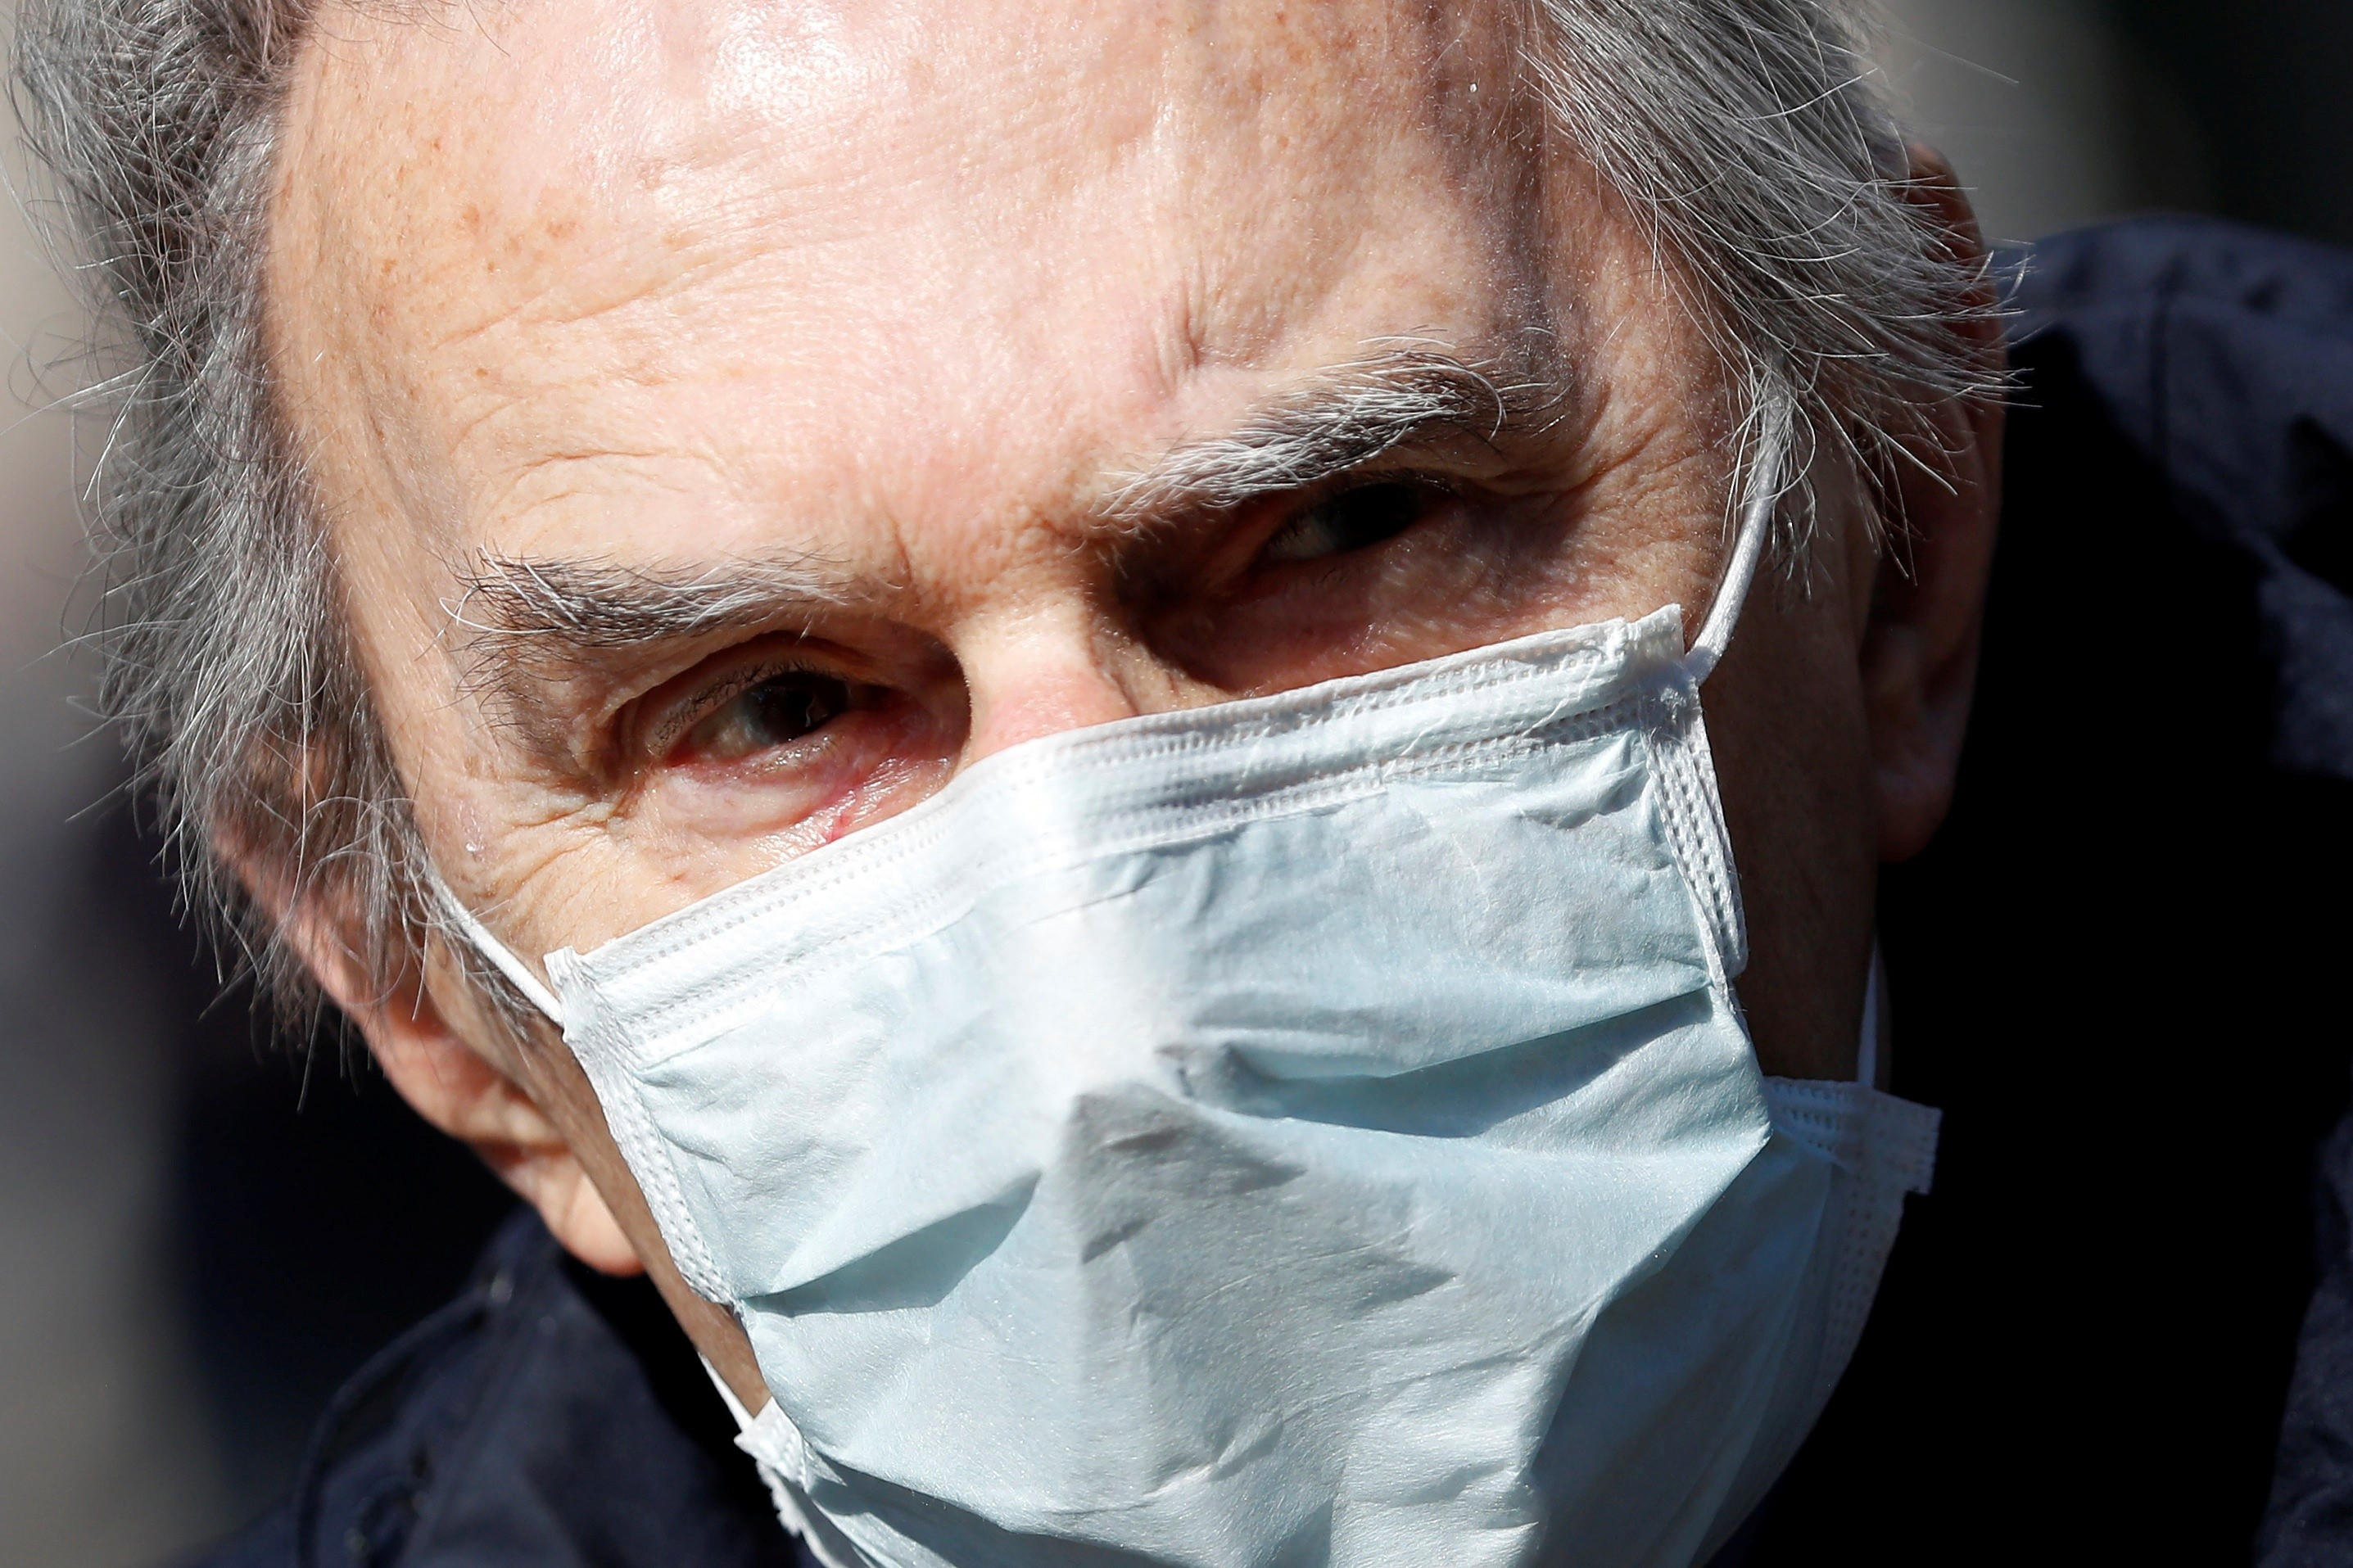face_with_mask: (207, 1, 1820, 1548)
